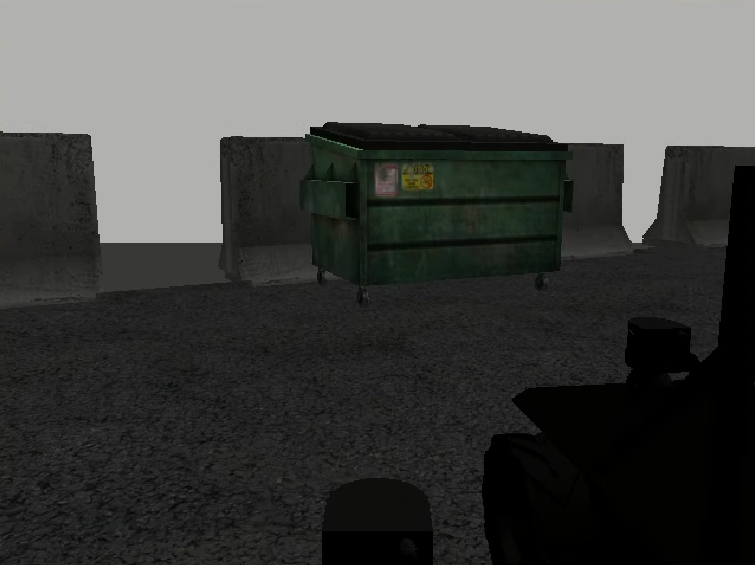husky: (482, 379, 755, 565)
